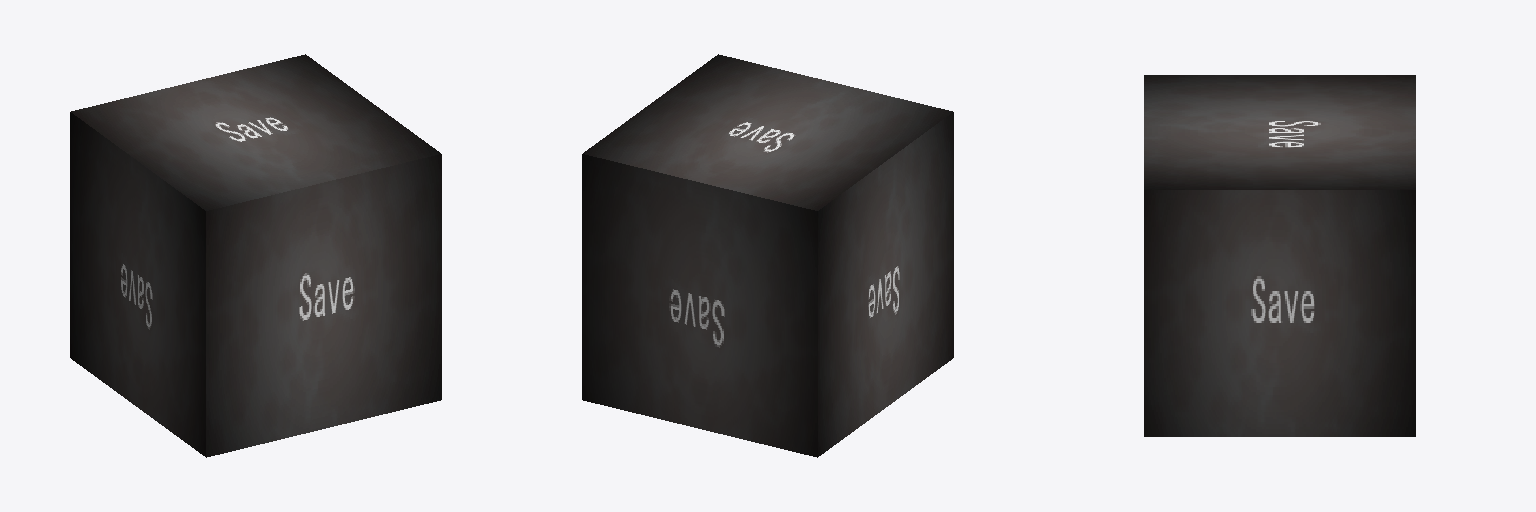
3 renders of one model, left to right at view 1: azimuth 30°, elevation 25°; view 2: azimuth 150°, elevation 25°; view 3: azimuth 270°, elevation 25°, orthographic.
Visible parts, largest first — view 1: Cube; view 2: Cube; view 3: Cube.
Boxes of the visible parts, <box> form: Cube: <box>70,54,441,457</box>; Cube: <box>582,54,953,457</box>; Cube: <box>1144,75,1415,436</box>.
Bounding box in the file's own units: 2 × 2 × 2.
Materials: 1 (1 with a texture image).